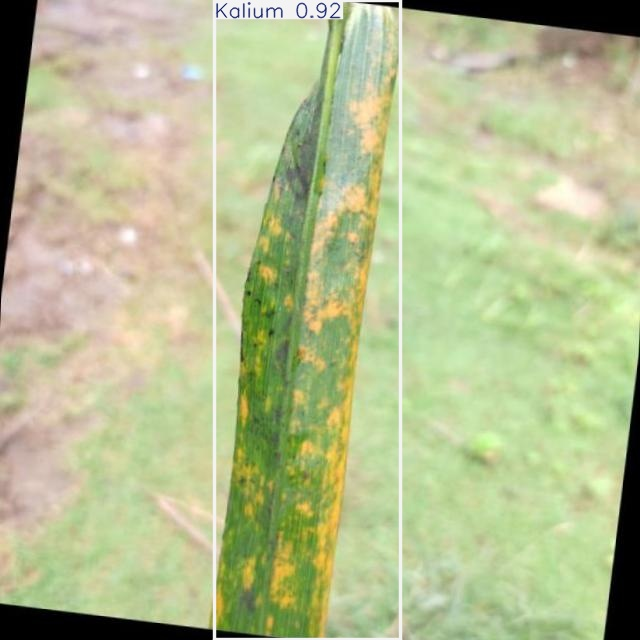Kalium: (214, 1, 400, 639)
